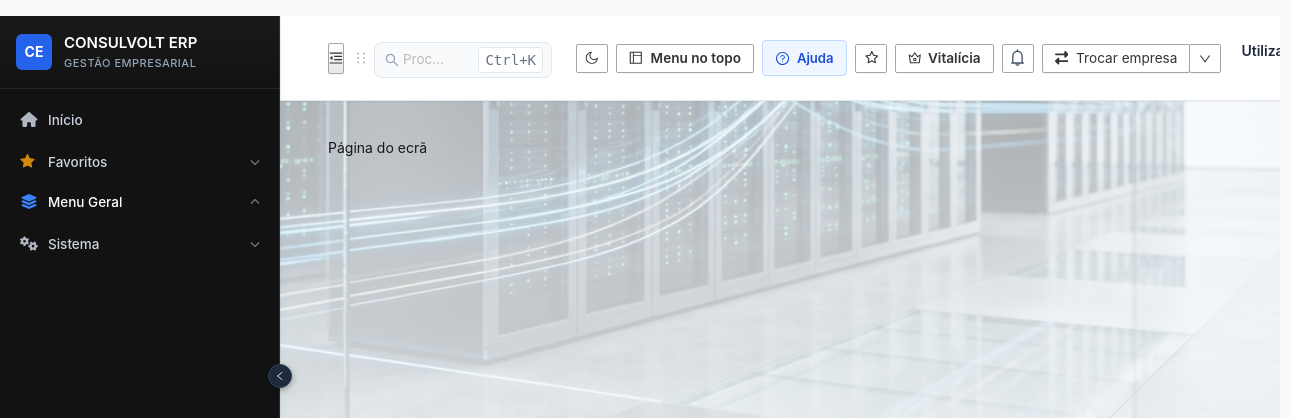
Test: LayoutPrincipal — funcionalidades transversais (ronda 2) › favoritos do servidor no menu e estrela do ecrã actual grava a preferência
(page scrolled)
Check: the text "Favoritos" is shown, box [48, 154, 107, 170]
Click the button named "Adicionar aos favoritos".
click(871, 58)  # box [855, 44, 887, 72]
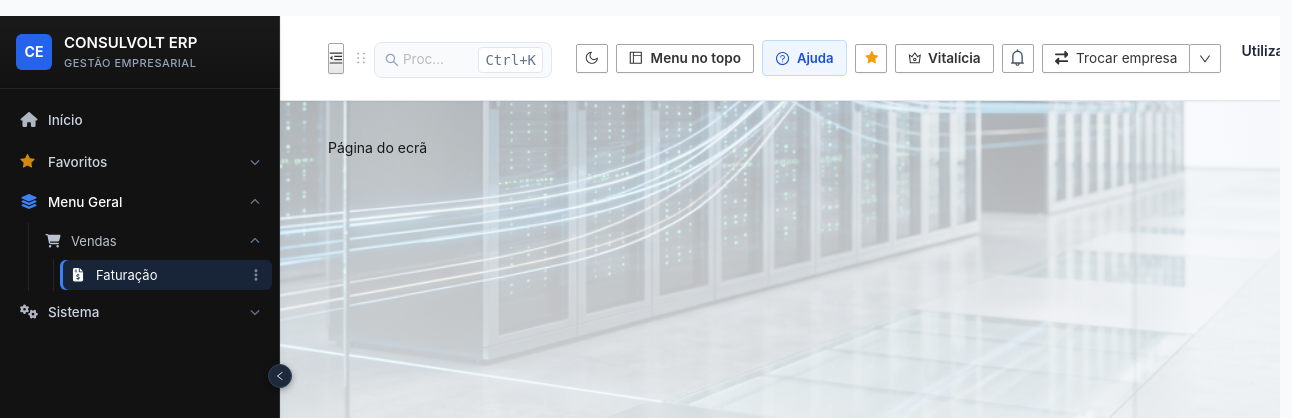
Check: the button named "Retirar dos favoritos" is shown, box [855, 44, 887, 72]
